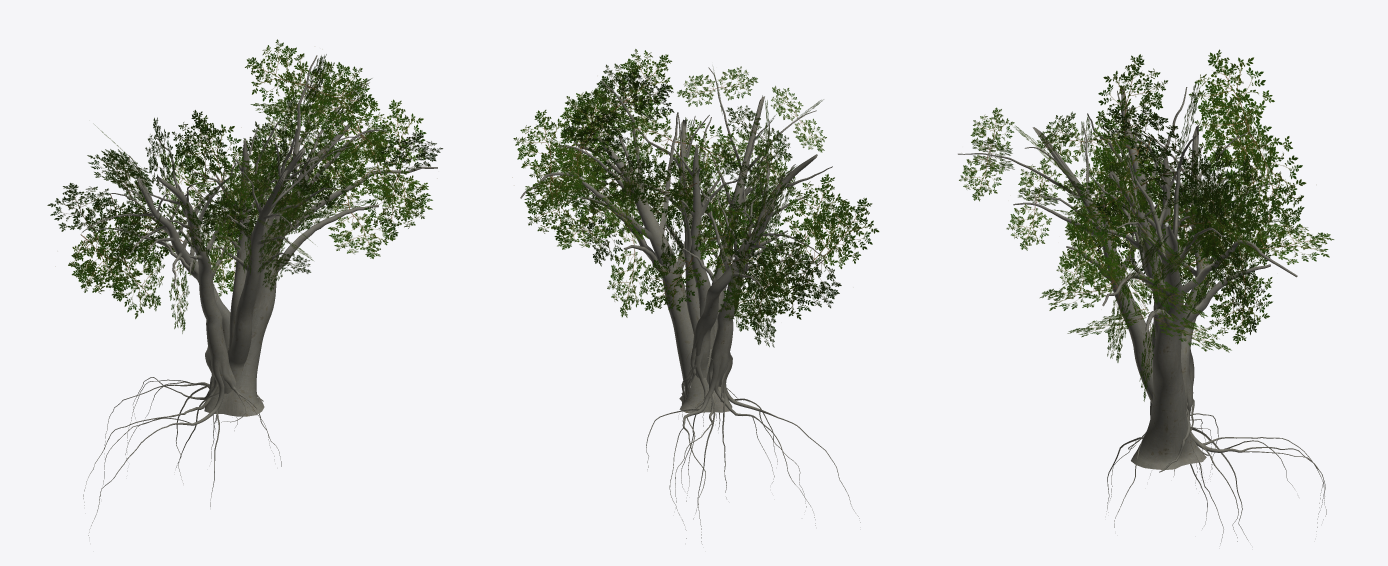
3 renders of one model, left to right at view 1: azimuth 30°, elevation 25°; view 2: azimuth 150°, elevation 25°; view 3: azimuth 270°, elevation 25°, orthographic. The views are drawn at different scales.
Parts seen in each view (by area): view 1: treesell1; view 2: treesell1; view 3: treesell1.
Boxes of the visible parts, x1,y1,x2,y2 form: treesell1: (47, 39, 442, 537); treesell1: (512, 49, 879, 544); treesell1: (958, 49, 1334, 543).
Size of the model in its own units: 0.4427 by 0.4741 by 0.3315.
Materials: 6 (5 with a texture image).
